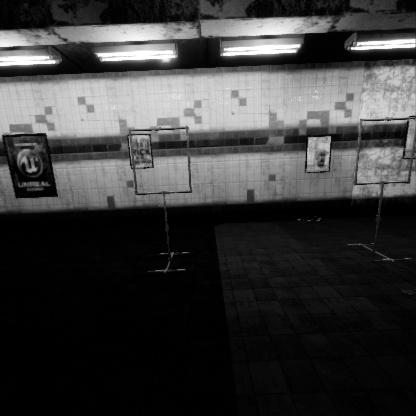gate: (128, 220, 197, 290), (354, 230, 416, 300)
